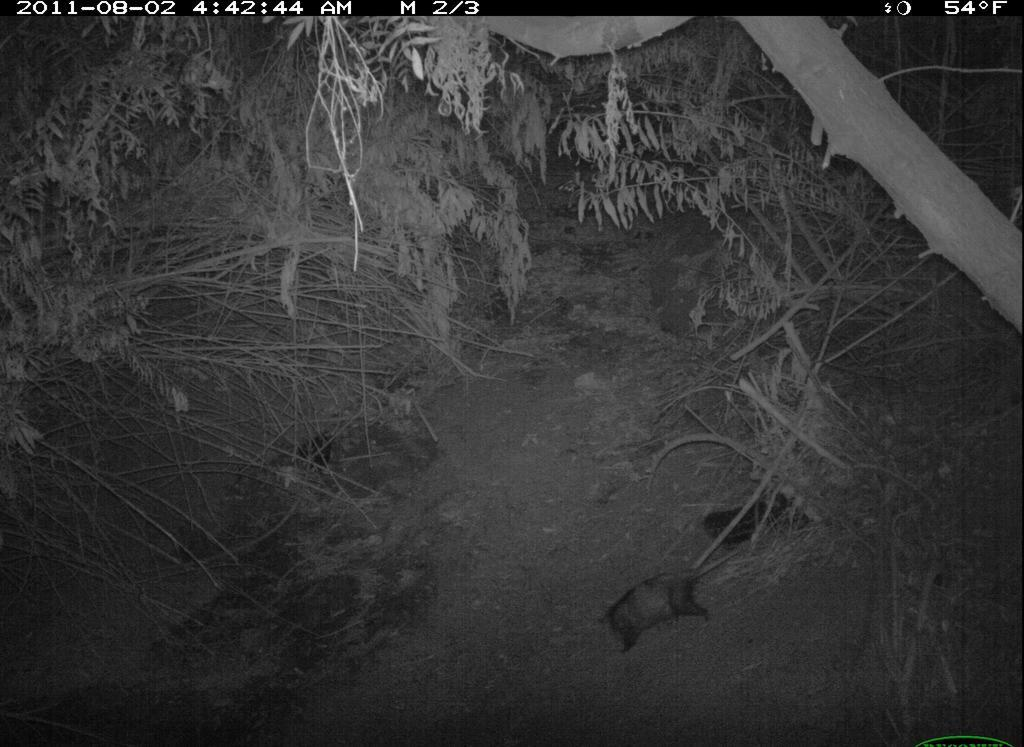opossum: (593, 538, 757, 661)
